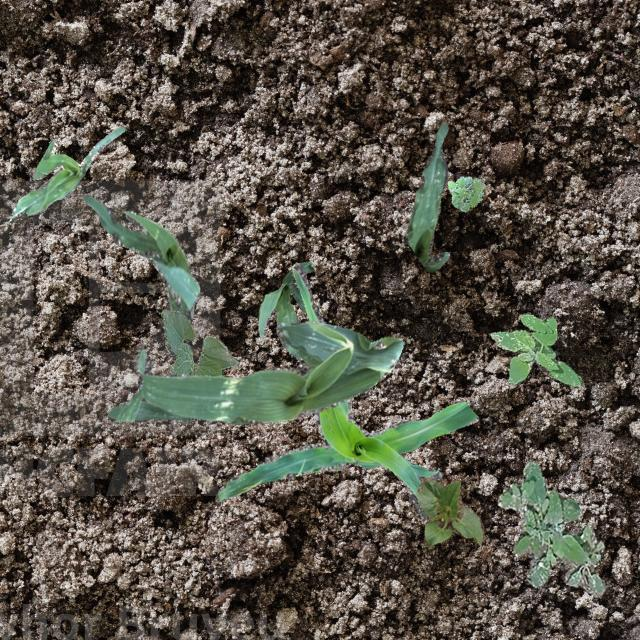crop: (217, 264, 478, 524), (106, 320, 402, 424), (81, 194, 199, 322), (10, 126, 124, 217), (406, 120, 448, 270), (256, 260, 312, 356), (160, 308, 238, 376), (416, 477, 484, 548)
weed: (496, 460, 604, 596), (490, 313, 580, 387), (446, 176, 484, 210)
